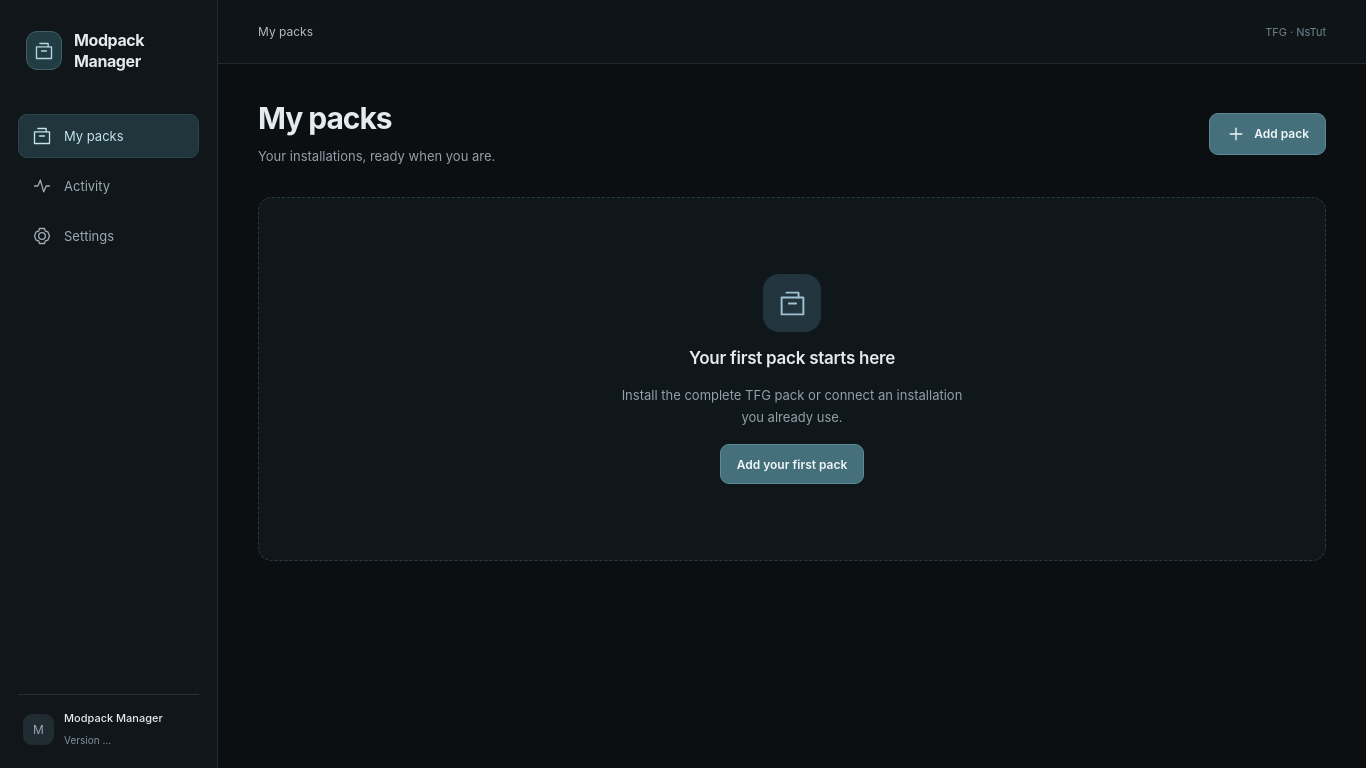
Test: Manager navigation › does not register an invalid existing folder
Click the button "Add your first pack" at (792,464), box [720,444,864,484]
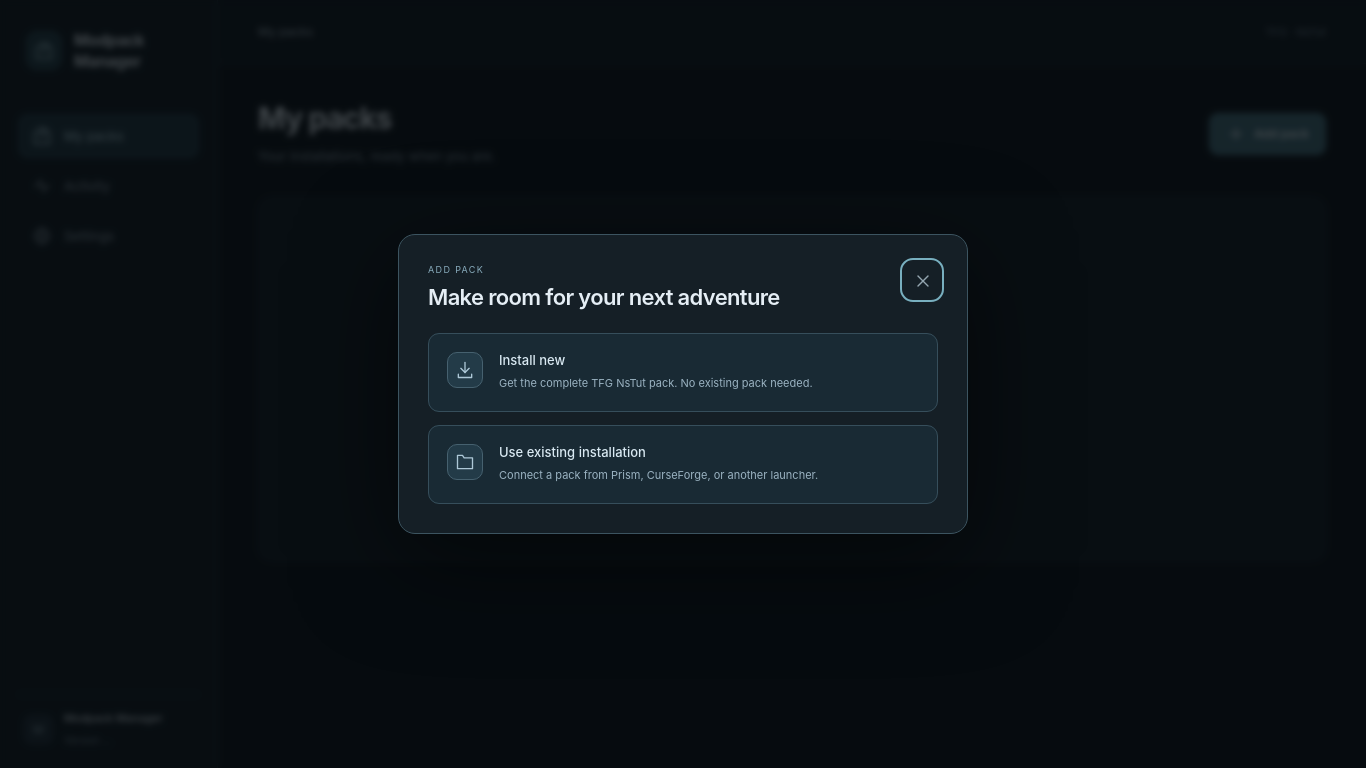
Click the button "Use existing installation" at (465,462), box [428,425,938,504]
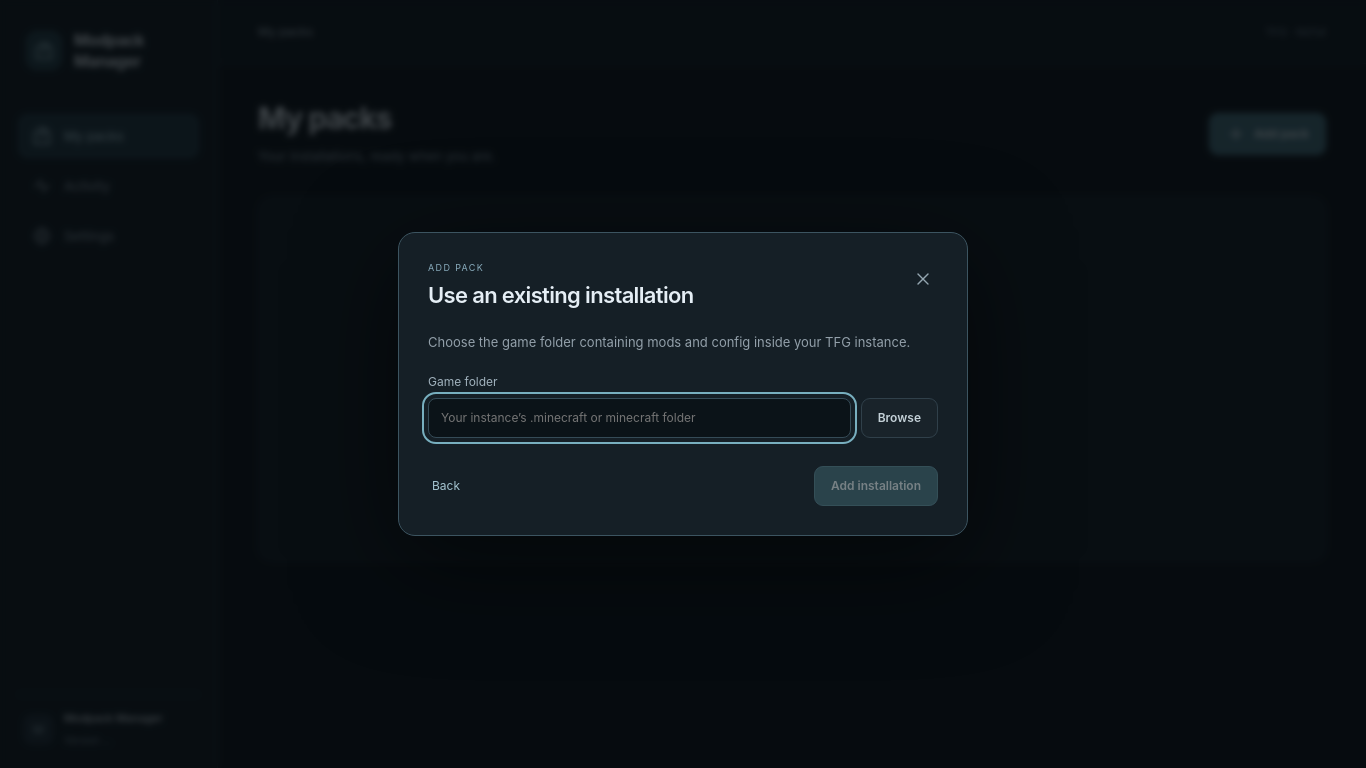
Type "/wrong" into the field labelled "Game folder" at (639,418), box [428,398,851,438]
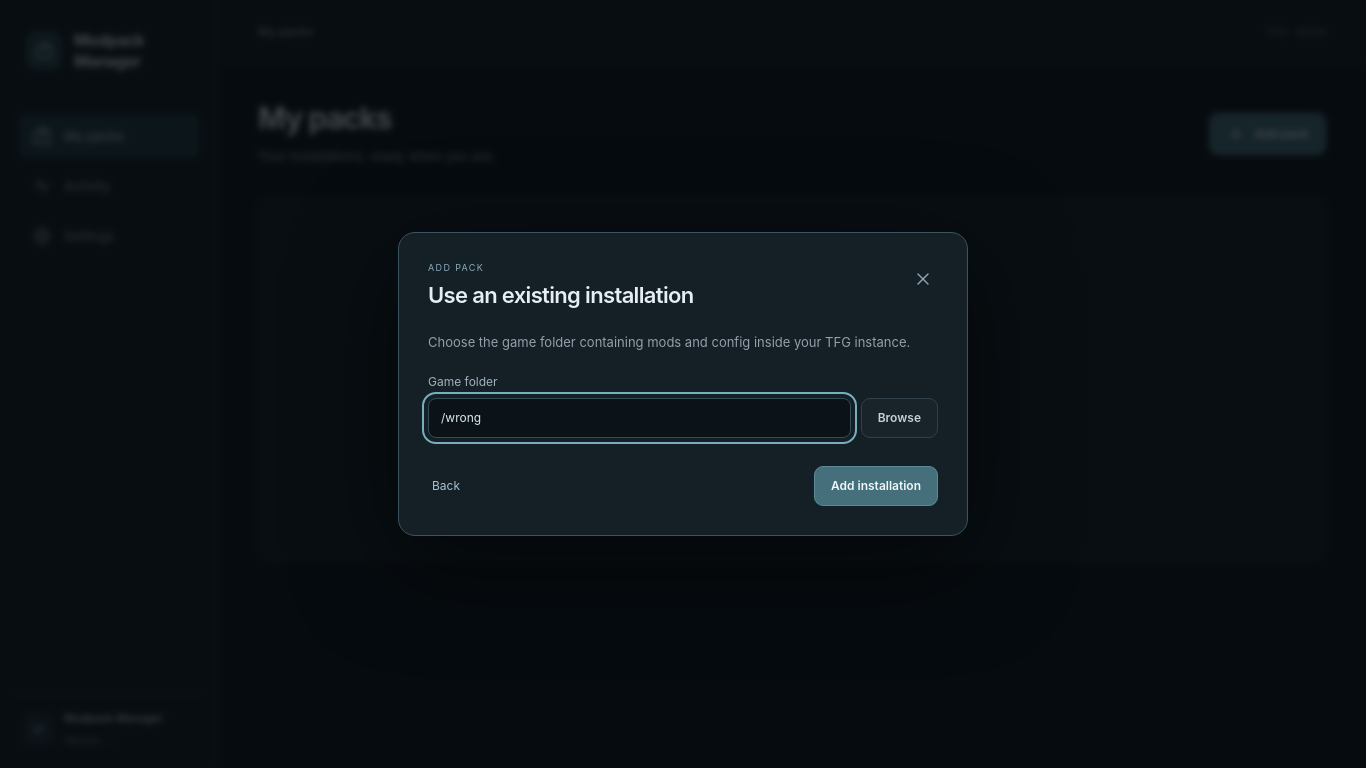
Click the button "Add installation" at (876,486), box [814,466,938,506]
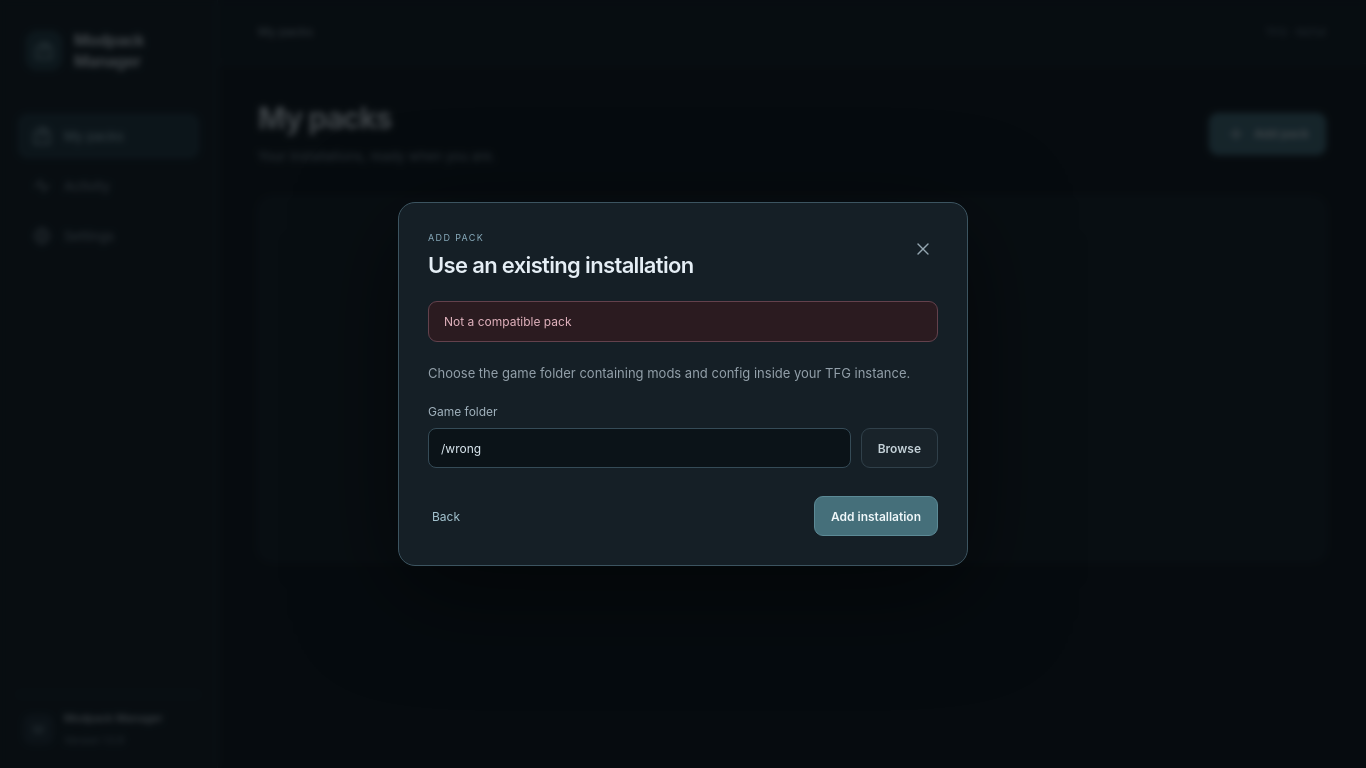
Expected: the text "Not a compatible pack" is shown, [428,301,938,342]
